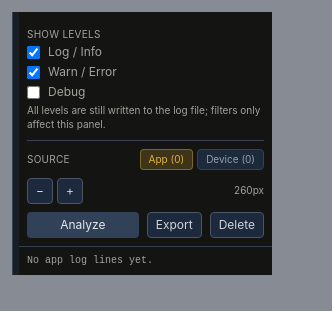
Test case: LogPanel accessibility › shows role="alert" when clear log rejects
Click the button with aria-label "Delete log": [237, 224] box x1=210 y1=212 x2=264 y2=238
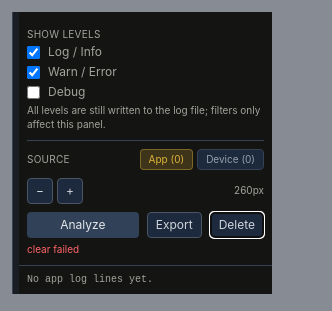
Now the message reads "clear failed", box x1=27 y1=242 x2=79 y2=254
